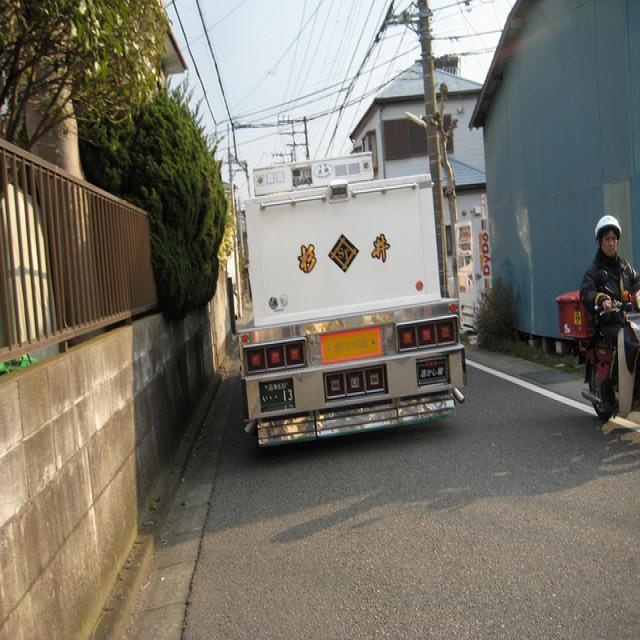motor: (555, 271, 640, 420)
